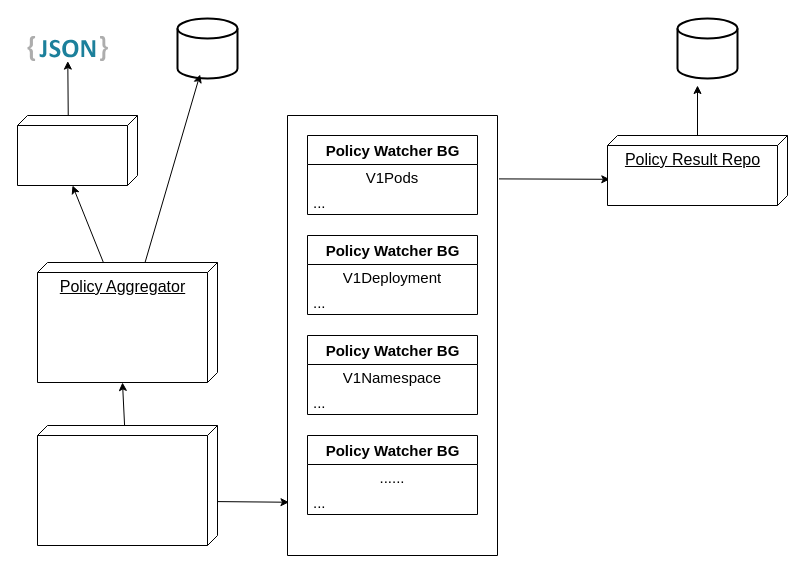
This 805x573 diagram has some shape labels left out. The box of each missing label's shape, as (x1, y1, x2, y2) in pixels:
Background Service Factory: (36, 424, 218, 546)
cosmos: (176, 17, 238, 79)
json policy interpreter: (16, 114, 138, 186)
